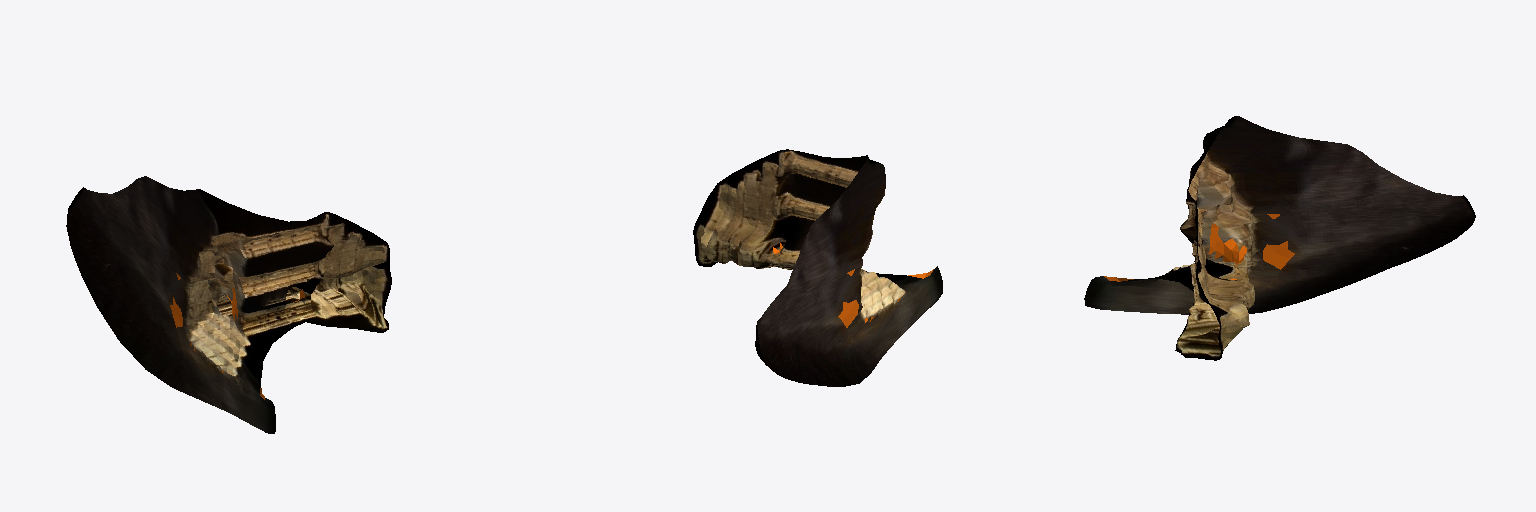
3 renders of one model, left to right at view 1: azimuth 30°, elevation 25°; view 2: azimuth 150°, elevation 25°; view 3: azimuth 270°, elevation 25°, orthographic.
Size of the model in its own units: 1.18 by 1.1 by 1.91.
Materials: 1 (1 with a texture image).